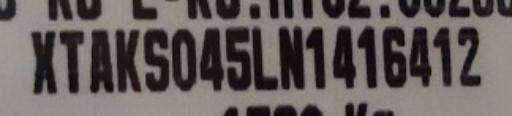letter: (276, 22, 308, 92), (112, 24, 144, 94), (26, 27, 58, 97), (169, 23, 199, 97), (195, 24, 225, 94), (140, 25, 170, 95), (85, 26, 115, 96), (56, 28, 86, 98), (379, 23, 409, 89), (406, 23, 436, 89), (250, 25, 280, 91), (330, 21, 358, 91), (224, 24, 252, 92), (455, 23, 483, 89), (304, 23, 328, 93), (430, 23, 454, 89), (354, 25, 378, 91)
